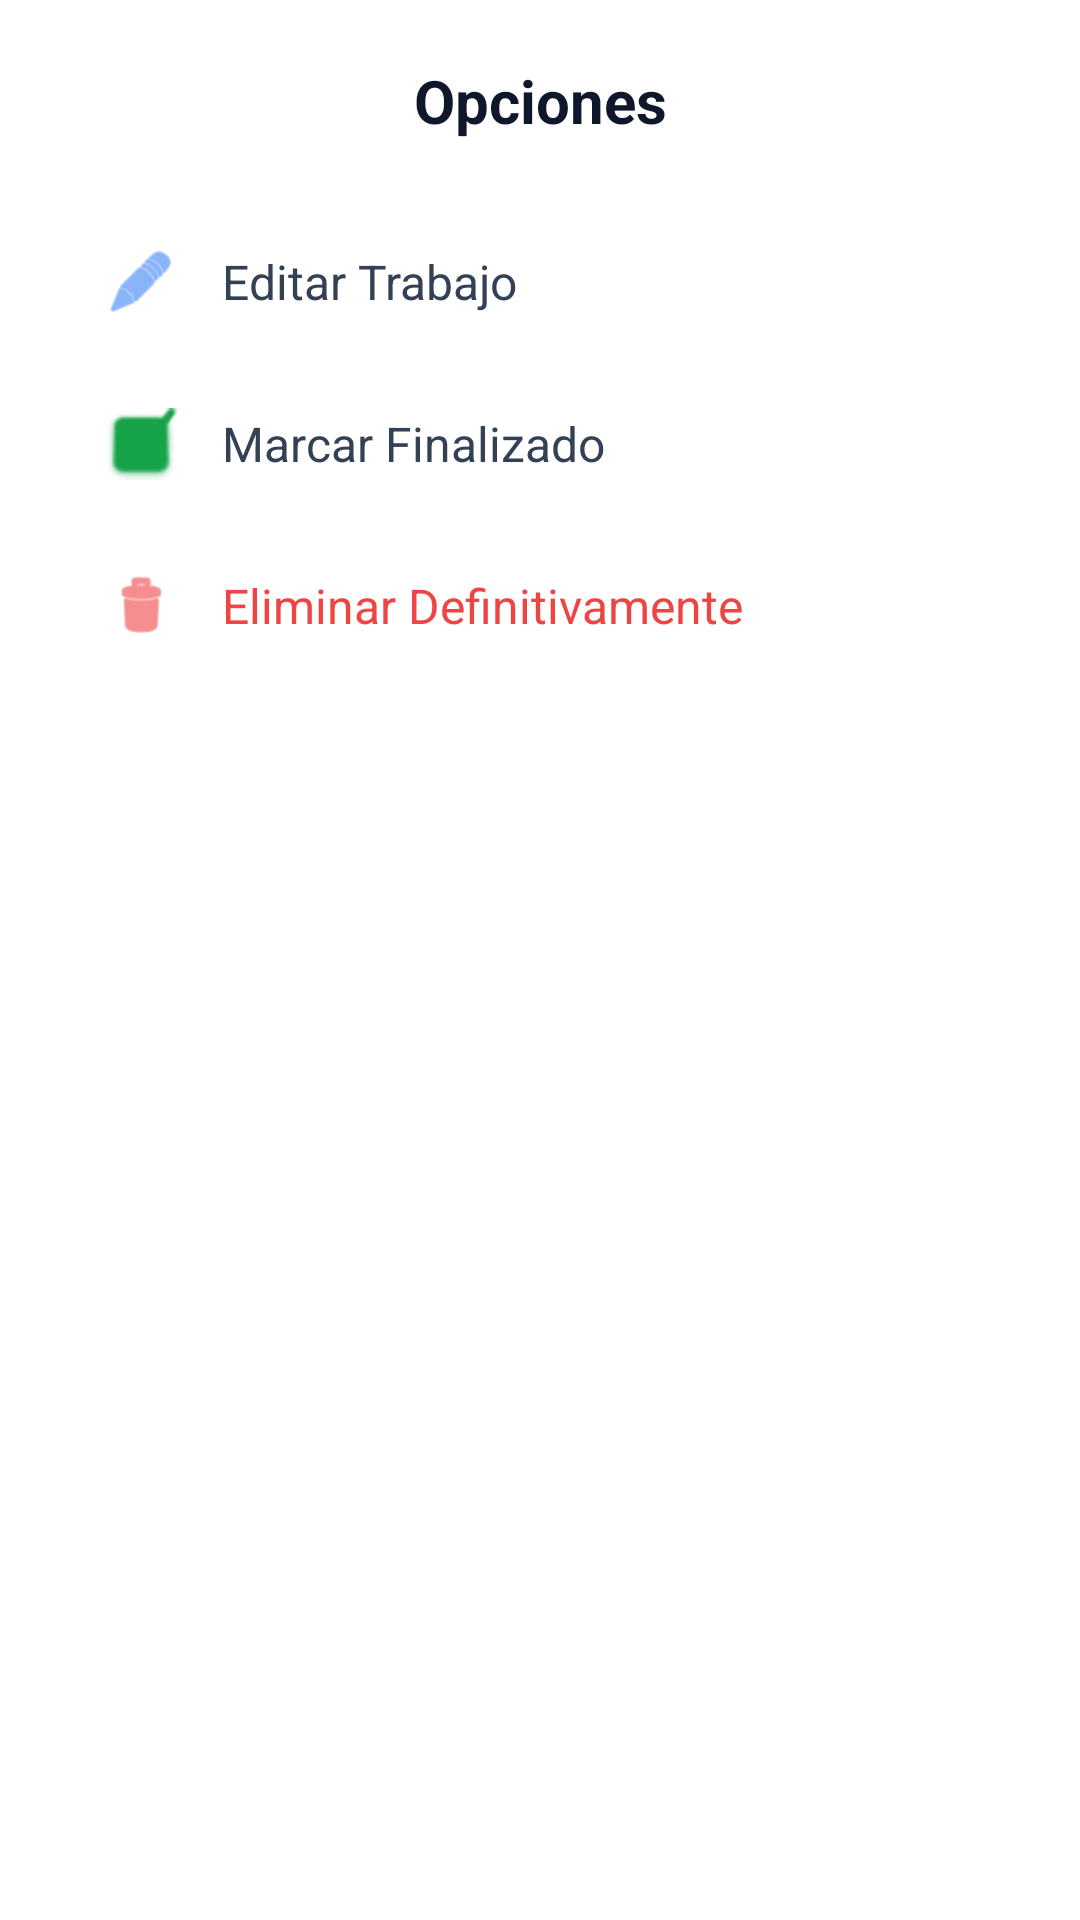

Screen size 1080px x 1920px. Icon name, then its center in pixels as (x,y):
delete: (141,605)
